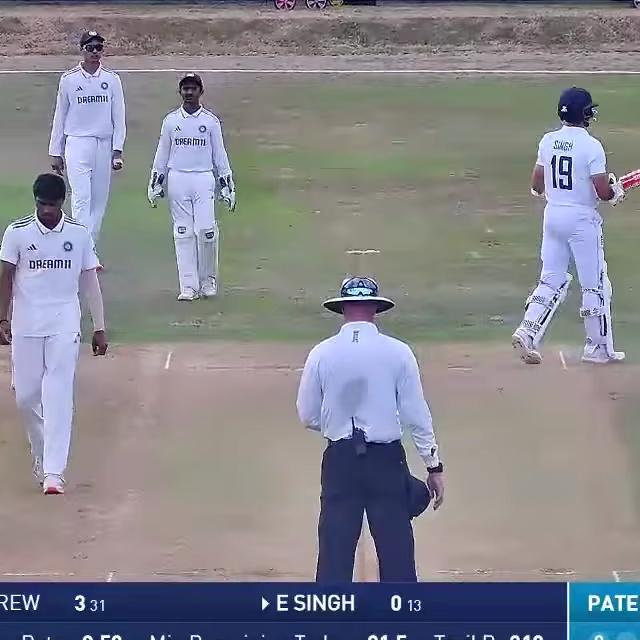umpire: (282, 264, 450, 584)
